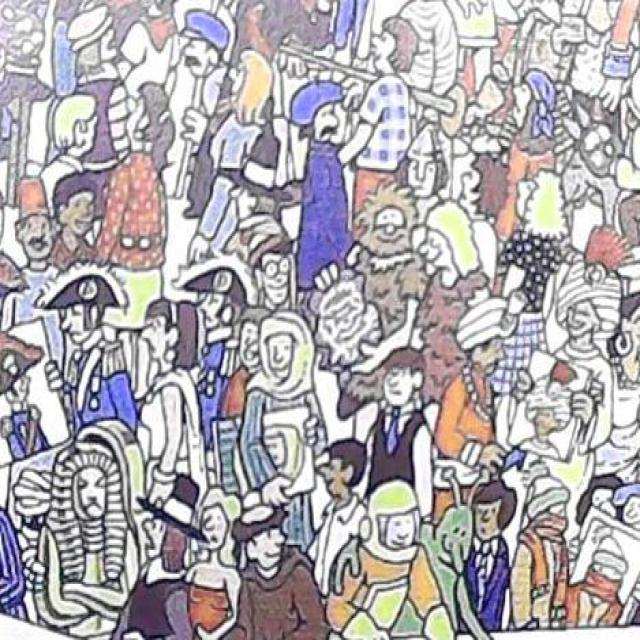waldo: (239, 228, 293, 306)
